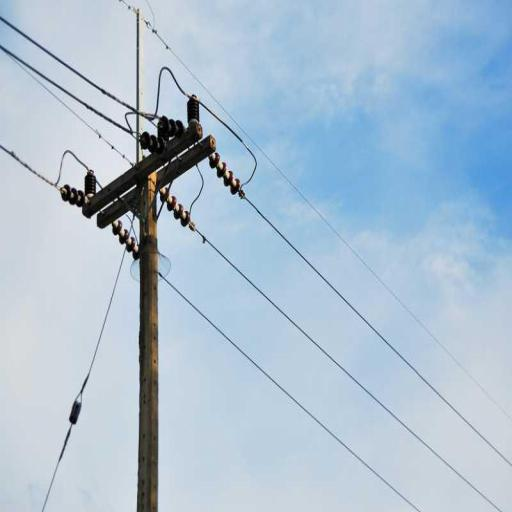mono_7: (58, 91, 247, 511)
